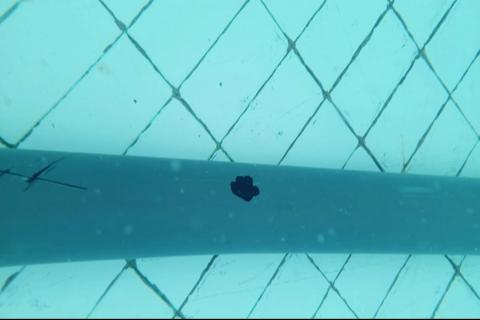kebocoran: (229, 174, 260, 202)
keretakan: (0, 156, 89, 194)
